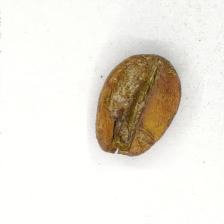NG: (96, 55, 158, 147)
